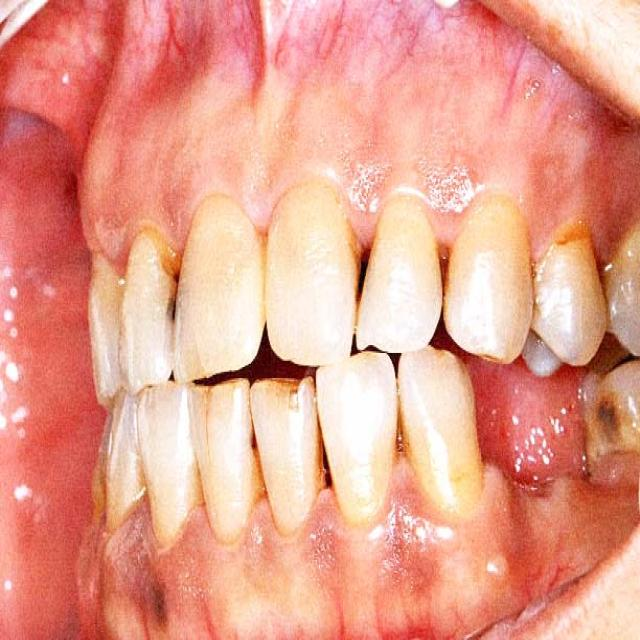caries: (145, 220, 184, 326), (550, 202, 596, 267), (586, 384, 632, 448)
